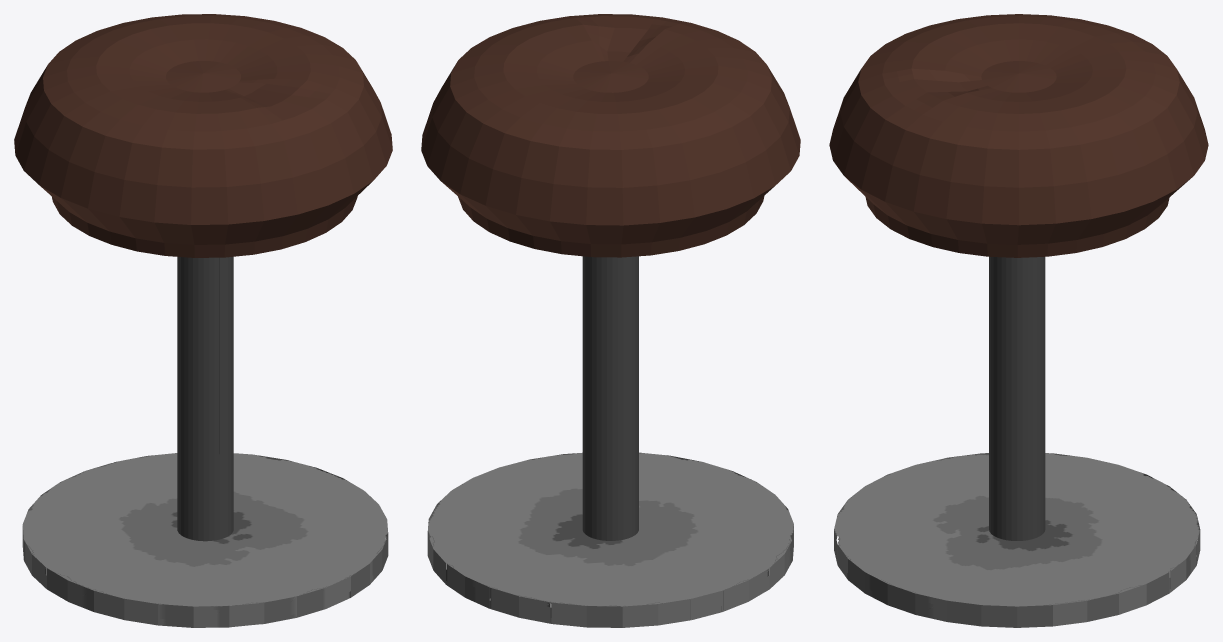
The model's file is Barstool2.fbx.
3 views of the same model, side by side, from view 1: azimuth 30°, elevation 25°; view 2: azimuth 150°, elevation 25°; view 3: azimuth 270°, elevation 25° (orthographic).
Visible parts, largest first — view 1: Cylinder; view 2: Cylinder; view 3: Cylinder.
Part boxes in pixels (x1=…): Cylinder: x1=14, y1=14, x2=392, y2=627; Cylinder: x1=421, y1=14, x2=800, y2=627; Cylinder: x1=829, y1=14, x2=1208, y2=627.
Bounding box in the file's own units: 96.15 × 135 × 96.15.
